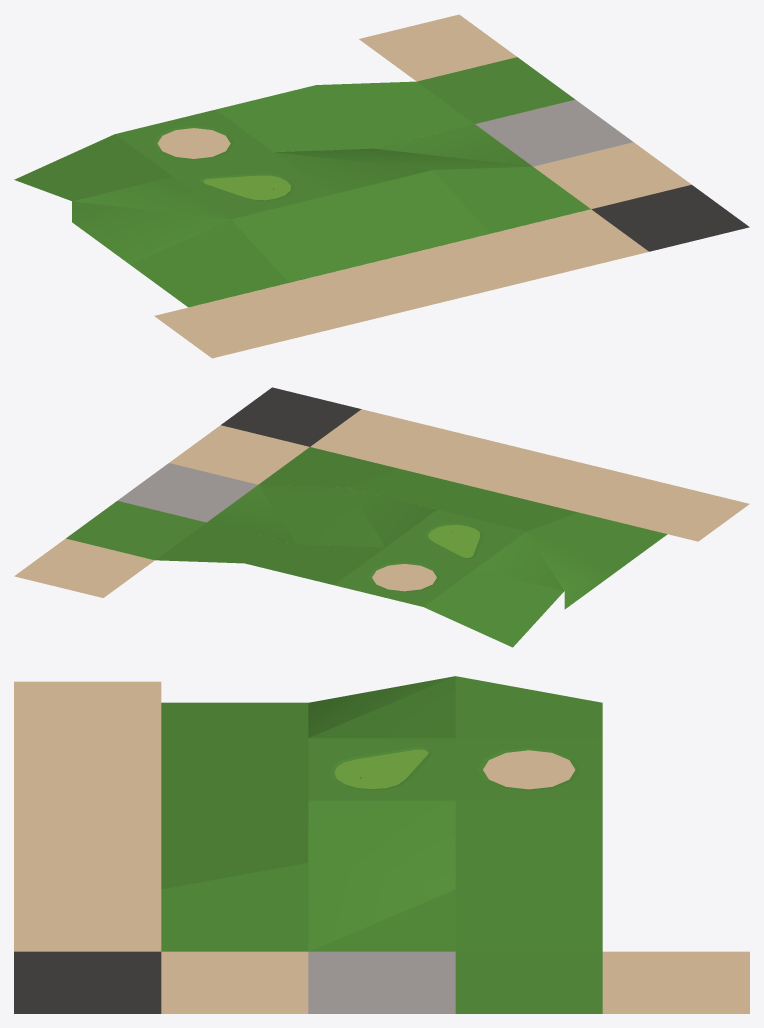
The model's file is road-zone-resort.glb.
3 views of the same model, one above another, from view 1: azimuth 30°, elevation 25°; view 2: azimuth 150°, elevation 25°; view 3: azimuth 270°, elevation 25° (orthographic). The views are drawn at different scales.
Parts seen in each view (by area): view 1: tile-plain-nb.095, tile-hill-curve-nb, tile-hill-curve-nb.001, tile-hill-nb, tile-hill-nb.001, tile-hill-corner-nb.002, tile-hill-corner-nb, tile-hill-corner-nb.001, tile-hill-valley-nb, tile-golf-green-nb, tile-golf-sand-nb, tile-plain-nb.026 (+5 smaller); view 2: tile-plain-nb.095, tile-hill-curve-nb, tile-hill-valley-nb.001, tile-hill-curve-nb.001, tile-plain-nb.026, asphalt-single.002, tile-golf-green-nb, tile-plain-nb.079, tile-golf-sand-nb, tile-plain-nb.068, tile-plain-nb.082, tile-hill-corner-nb.002 (+5 smaller); view 3: tile-plain-nb.095, tile-hill-curve-nb, tile-hill-valley-nb, tile-hill-corner-nb.001, tile-hill-corner-nb, tile-plain-nb.082, tile-golf-sand-nb, tile-golf-green-nb, asphalt-single.002, tile-plain-nb.079, tile-plain-nb.068, tile-plain-nb.026 (+5 smaller).
Part boxes in pixels (bbox=[...]): tile-plain-nb.095: bbox=[154, 209, 648, 358]; tile-hill-curve-nb: bbox=[274, 124, 532, 194]; tile-hill-curve-nb.001: bbox=[72, 177, 230, 264]; tile-hill-nb: bbox=[332, 170, 490, 258]; tile-hill-nb.001: bbox=[231, 195, 389, 282]; tile-hill-corner-nb.002: bbox=[131, 219, 288, 307]; tile-hill-corner-nb: bbox=[316, 81, 474, 148]; tile-hill-corner-nb.001: bbox=[432, 166, 590, 233]; tile-hill-valley-nb: bbox=[216, 85, 373, 152]; tile-golf-green-nb: bbox=[173, 152, 331, 219]; tile-golf-sand-nb: bbox=[115, 109, 272, 176]; tile-plain-nb.026: bbox=[359, 14, 516, 81]; tile-plain-nb.095: bbox=[310, 409, 749, 541]; tile-hill-curve-nb: bbox=[207, 484, 436, 547]; tile-hill-valley-nb.001: bbox=[424, 569, 564, 647]; tile-hill-curve-nb.001: bbox=[475, 531, 615, 609]; tile-plain-nb.026: bbox=[14, 538, 154, 597]; asphalt-single.002: bbox=[221, 387, 361, 446]; tile-golf-green-nb: bbox=[386, 509, 526, 568]; tile-plain-nb.079: bbox=[169, 425, 309, 484]; tile-golf-sand-nb: bbox=[334, 547, 474, 606]; tile-plain-nb.068: bbox=[66, 501, 206, 560]; tile-plain-nb.082: bbox=[117, 463, 257, 522]; tile-hill-corner-nb.002: bbox=[527, 512, 667, 571]; tile-plain-nb.095: bbox=[14, 681, 161, 951]; tile-hill-curve-nb: bbox=[308, 800, 455, 951]; tile-hill-valley-nb: bbox=[455, 800, 602, 889]; tile-hill-corner-nb.001: bbox=[161, 863, 308, 951]; tile-hill-corner-nb: bbox=[455, 863, 602, 951]; tile-plain-nb.082: bbox=[308, 951, 455, 1013]; tile-golf-sand-nb: bbox=[455, 738, 602, 800]; tile-golf-green-nb: bbox=[308, 738, 455, 800]; asphalt-single.002: bbox=[14, 951, 161, 1013]; tile-plain-nb.079: bbox=[161, 951, 308, 1013]; tile-plain-nb.068: bbox=[455, 951, 602, 1013]; tile-plain-nb.026: bbox=[602, 951, 749, 1013].
Size of the model in its own units: 160 by 6.01 by 150.
